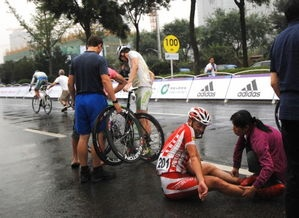falling: (147, 99, 278, 209)
